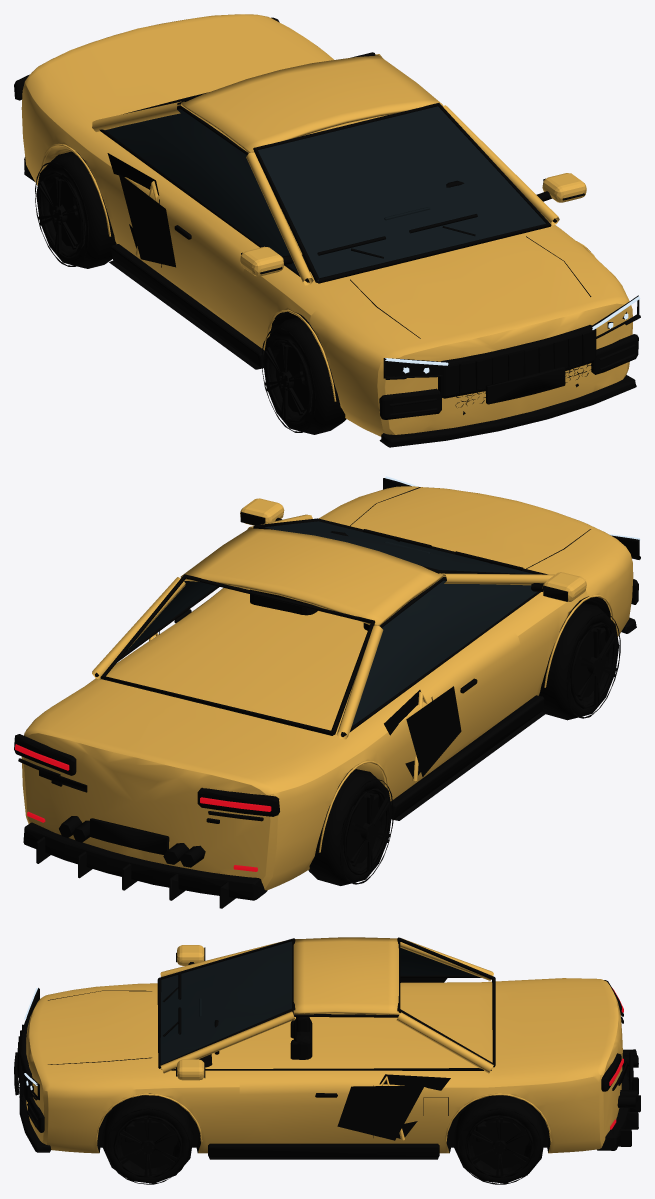
Rendered from sport-mid.glb.
The picture shows the model from 3 angles, top to bottom: view 1: azimuth 30°, elevation 25°; view 2: azimuth 150°, elevation 25°; view 3: azimuth 270°, elevation 25°; orthographic projection. The views are drawn at different scales.
Visible parts, largest first — view 1: chassis.001__Automotive clearcoat, chassis.001__Solar glass, chassis.001__Vehicle detail atlas, wheel_FL.001__Vehicle detail atlas, wheel_RL.001__Vehicle detail atlas; view 2: chassis.001__Automotive clearcoat, chassis.001__Vehicle detail atlas, chassis.001__Solar glass, wheel_RL.001__Vehicle detail atlas, wheel_FL.001__Vehicle detail atlas, chassis.001__Red LED optics; view 3: chassis.001__Automotive clearcoat, chassis.001__Vehicle detail atlas, chassis.001__Solar glass, wheel_FR.001__Vehicle detail atlas, wheel_RR.001__Vehicle detail atlas.
Boxes of the visible parts, box(x1,y1,x2,y2) form: chassis.001__Automotive clearcoat: box(21, 14, 632, 436); chassis.001__Solar glass: box(105, 106, 545, 281); chassis.001__Vehicle detail atlas: box(14, 17, 639, 447); wheel_FL.001__Vehicle detail atlas: box(261, 316, 346, 434); wheel_RL.001__Vehicle detail atlas: box(35, 151, 116, 268); chassis.001__Automotive clearcoat: box(21, 486, 633, 890); chassis.001__Vehicle detail atlas: box(14, 478, 639, 908); chassis.001__Solar glass: box(124, 521, 537, 726); wheel_RL.001__Vehicle detail atlas: box(308, 769, 393, 885); wheel_FL.001__Vehicle detail atlas: box(539, 602, 620, 720); chassis.001__Red LED optics: box(15, 744, 271, 871); chassis.001__Automotive clearcoat: box(26, 937, 622, 1153); chassis.001__Vehicle detail atlas: box(14, 937, 640, 1159); chassis.001__Solar glass: box(160, 941, 473, 1064); wheel_FR.001__Vehicle detail atlas: box(102, 1095, 193, 1184); wheel_RR.001__Vehicle detail atlas: box(454, 1095, 545, 1184).
Size of the model in its own units: 2.19 by 1.31 by 4.58.
Materials: 8 (6 with a texture image).
